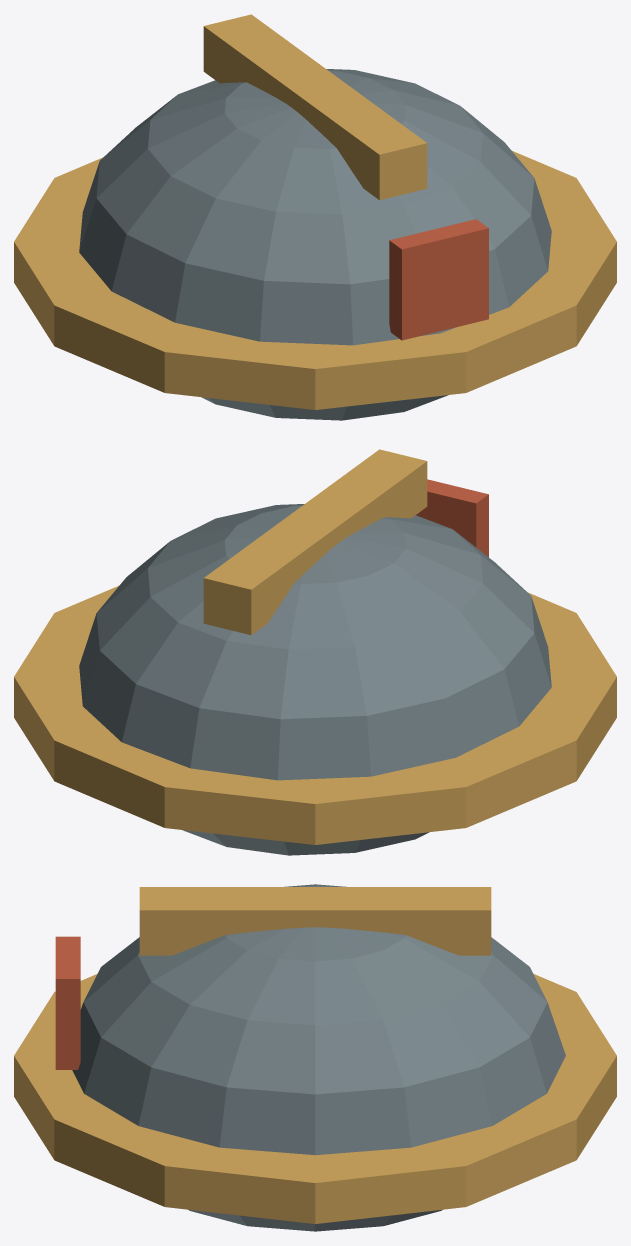
Rendered from WardenHelmet.glb.
3 renders of one model, top to bottom at view 1: azimuth 30°, elevation 25°; view 2: azimuth 150°, elevation 25°; view 3: azimuth 270°, elevation 25°, orthographic.
Parts seen in each view (by area): view 1: Helmet crown, Helmet brim, Crest, Front badge; view 2: Helmet crown, Helmet brim, Crest, Front badge; view 3: Helmet crown, Helmet brim, Crest, Front badge.
Boxes of the visible parts, x1,y1,x2,y2 form: Helmet crown: (79,69,551,420); Helmet brim: (14,150,616,409); Crest: (203,14,427,200); Front badge: (389,219,488,340); Helmet crown: (79,504,551,855); Helmet brim: (14,585,616,844); Crest: (203,449,427,635); Front badge: (416,479,488,557); Helmet crown: (72,884,565,1231); Helmet brim: (14,974,616,1223); Crest: (139,887,491,955); Front badge: (55,936,80,1069).
Bounding box in the file's own units: 0.6 × 0.335 × 0.6.
